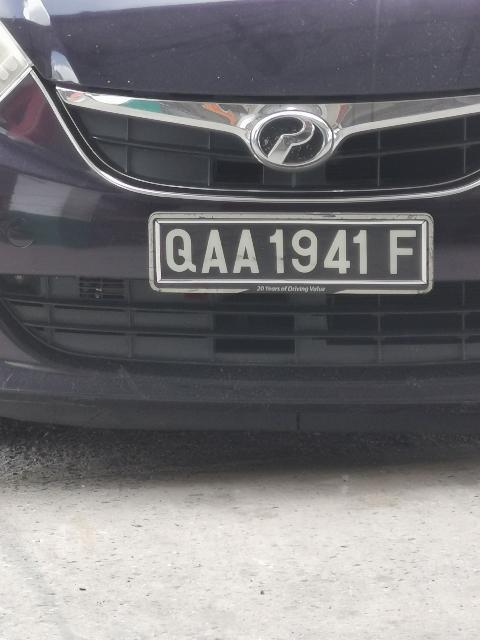License_Plate: (150, 213, 435, 297)
